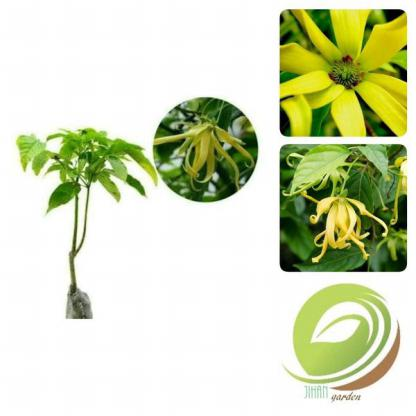Kenanga: (166, 95, 240, 182), (313, 39, 390, 109), (310, 186, 369, 247)
